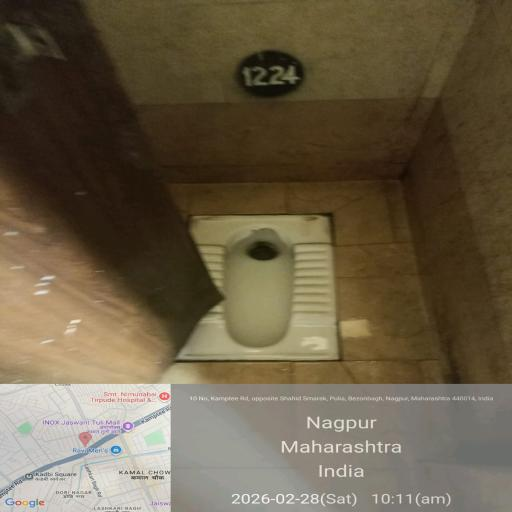dirty_floor: (91, 0, 510, 210), (342, 209, 512, 378)
partial_dirty_floor: (0, 152, 122, 365)
partial_dirty_indian: (159, 207, 346, 364)
